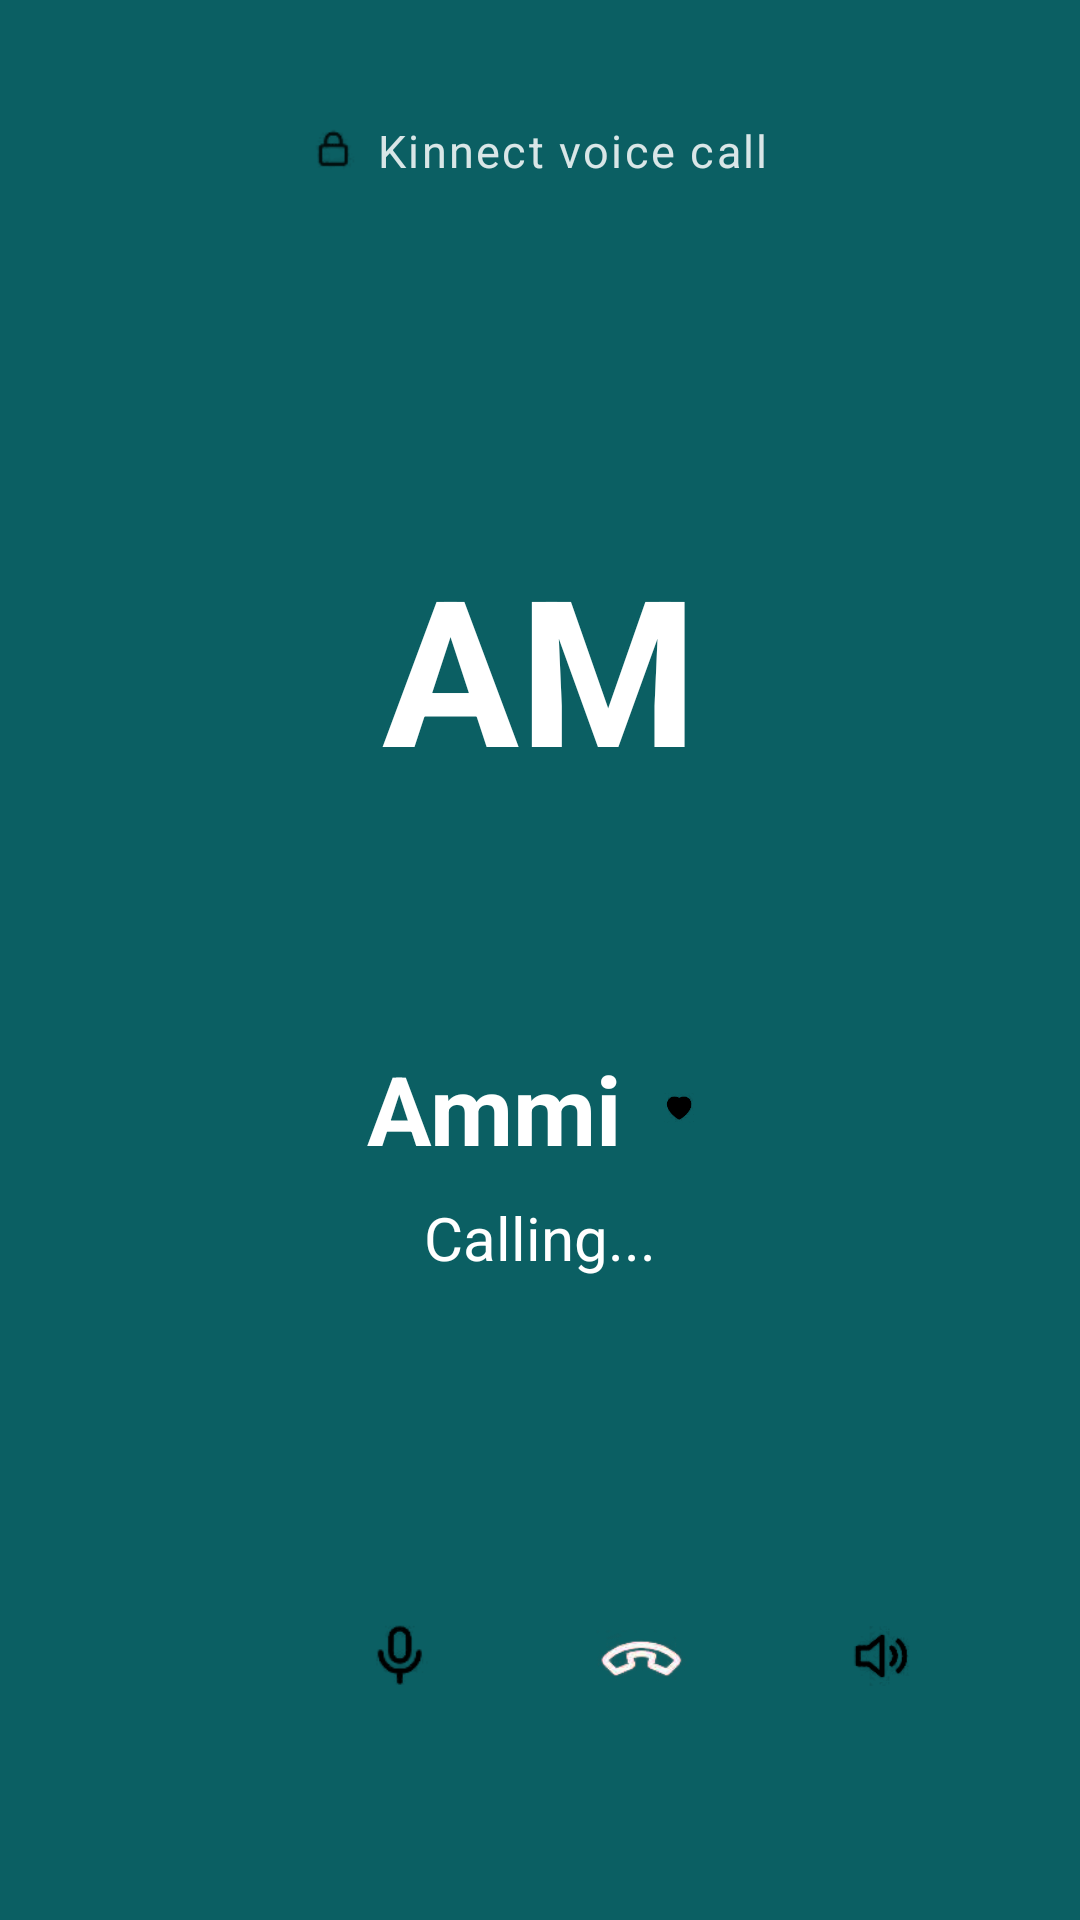

Screen size 1080*1920. Icon name, then its center in pixels as (x=x, y=y):
End call: (x=641, y=1658)
heart: (x=679, y=1108)
lock: (x=333, y=148)
Mute: (x=399, y=1655)
Speaker: (x=881, y=1656)
